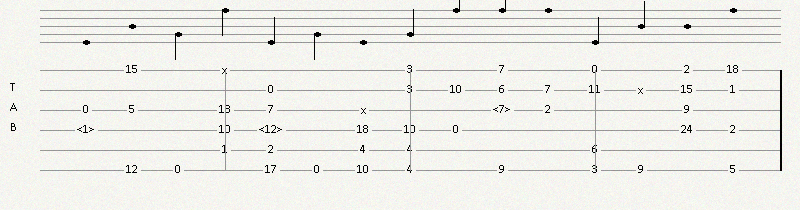0: (83, 104, 93, 116), (175, 164, 185, 176), (268, 84, 278, 96), (314, 164, 324, 176), (453, 124, 463, 136), (592, 64, 602, 76)
1: (222, 144, 232, 156), (730, 84, 740, 96)
10: (219, 124, 235, 136), (357, 164, 373, 176), (404, 124, 420, 136), (450, 84, 466, 96)
11: (589, 84, 605, 96)
12: (126, 164, 142, 176)
13: (219, 104, 235, 116)
15: (126, 64, 142, 76), (681, 84, 697, 96)
17: (265, 164, 281, 176)
18: (357, 124, 373, 136), (727, 64, 743, 76)
2: (268, 144, 278, 156), (545, 104, 555, 116), (684, 64, 694, 76), (730, 124, 740, 136)
24: (681, 124, 697, 136)
3: (407, 84, 417, 96), (407, 64, 417, 76), (592, 164, 602, 176)
4: (360, 144, 370, 156), (407, 164, 417, 176), (407, 144, 417, 156)
5: (129, 104, 139, 116), (730, 164, 740, 176)
6: (499, 84, 509, 96), (592, 144, 602, 156)
7: (268, 104, 278, 116), (499, 64, 509, 76), (545, 84, 555, 96)
9: (499, 164, 509, 176), (638, 164, 648, 176), (684, 104, 694, 116)
harmonic: (259, 124, 287, 136), (77, 124, 99, 136), (493, 104, 515, 116)
x: (222, 65, 231, 75), (361, 105, 370, 115), (638, 85, 647, 95)
